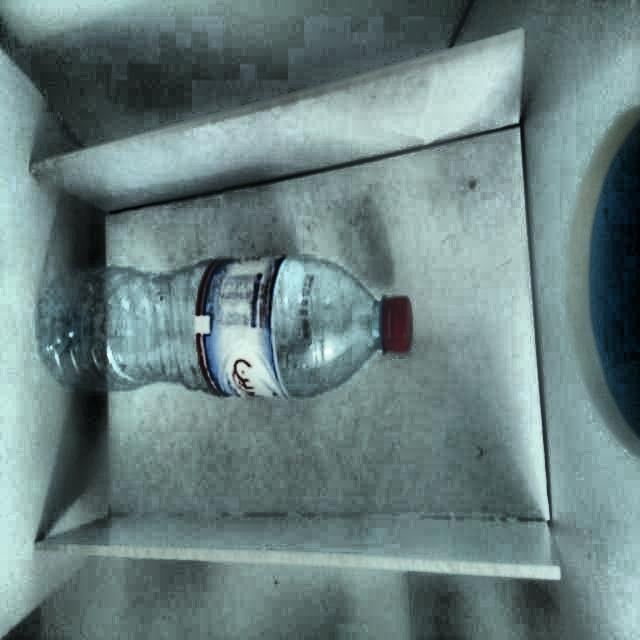plastic bottle: (36, 253, 414, 399)
